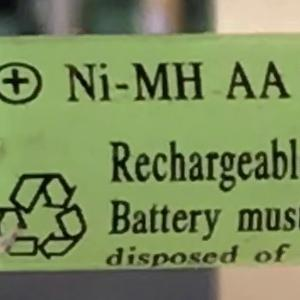keyword: (55, 52, 213, 112)
